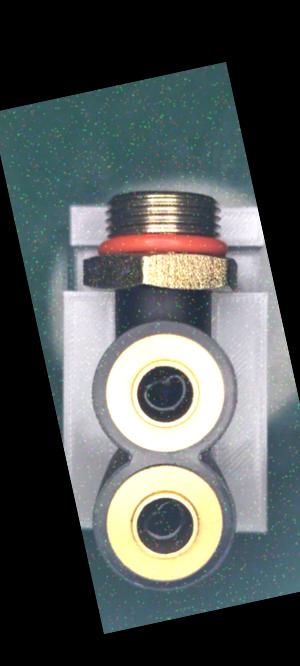joint line: (156, 284, 169, 316)
off-centered: (130, 357, 195, 422), (125, 494, 196, 550)
